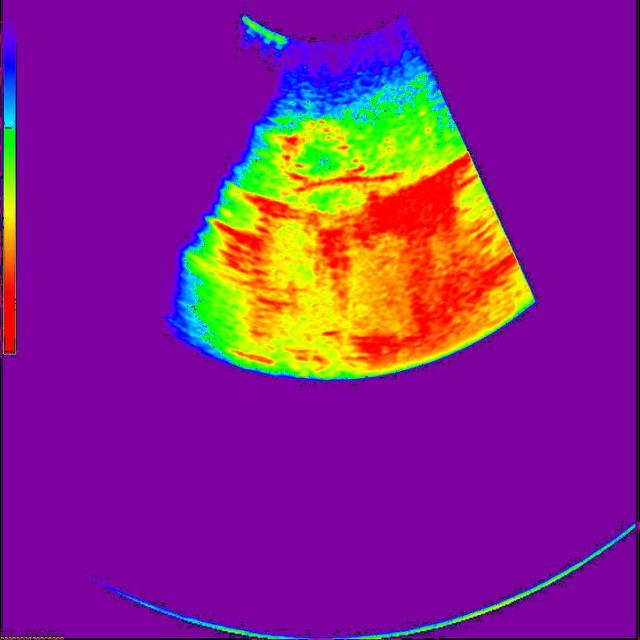lamb liver post: (280, 118, 365, 186)
